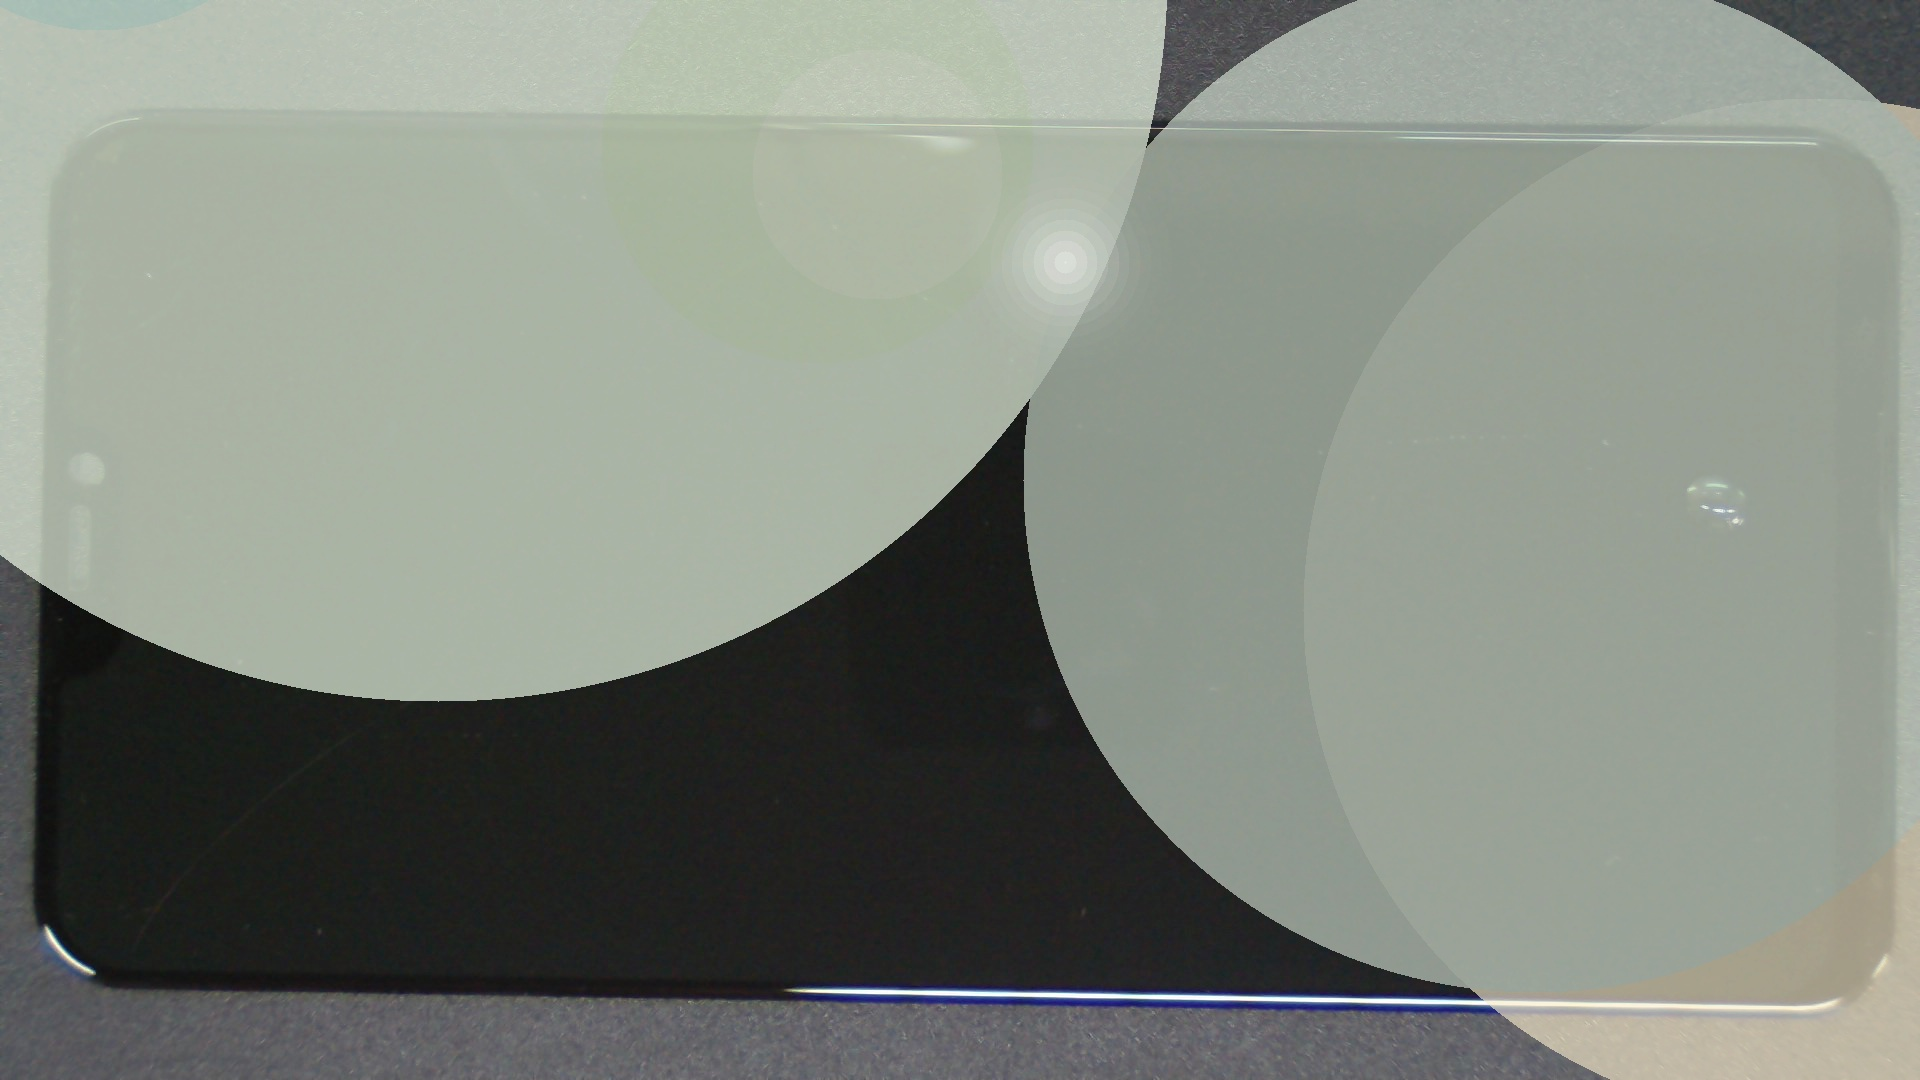oil: (852, 237, 1920, 716)
